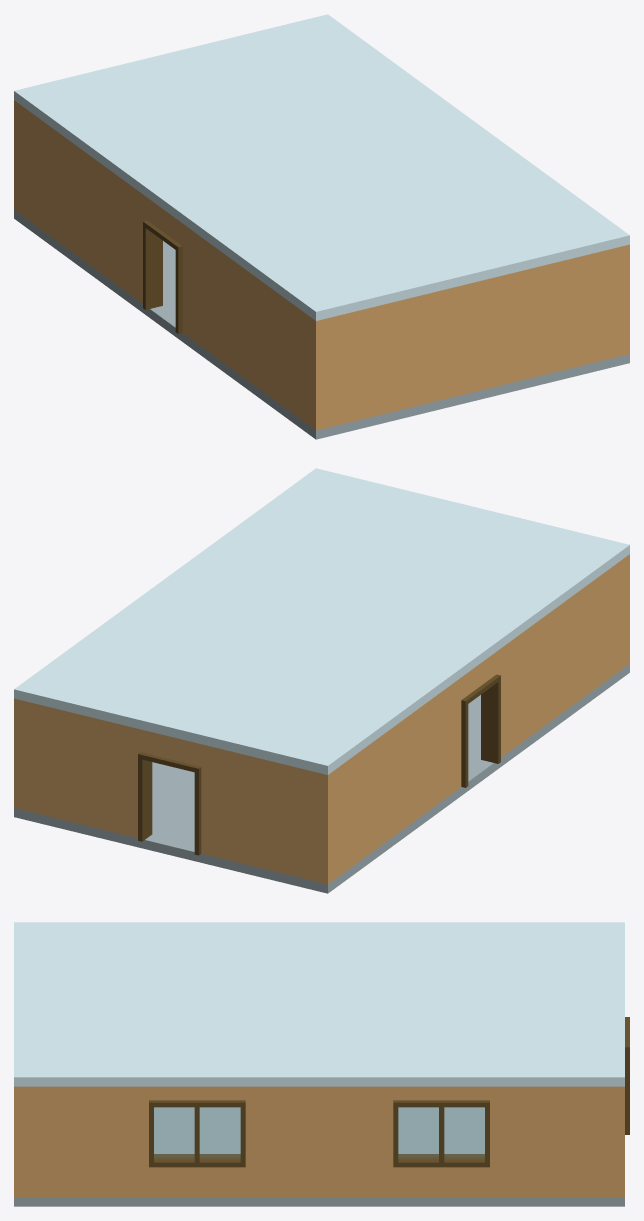
Rendered from room5x3.fbx.
3 renders of one model, top to bottom at view 1: azimuth 30°, elevation 25°; view 2: azimuth 150°, elevation 25°; view 3: azimuth 270°, elevation 25°, orthographic.
Visible parts, largest first — view 1: roof.009, wall.035, wall.031, wall.032, floor.011, wall.028, frame.010; view 2: roof.009, wall.031, wall.032, wall.034, wall.037, floor.011, wall.030, wall.028, frame.010, frame.012, wall.038; view 3: roof.009, floor.011, wall.033, wall.029, wall.038, wall.036, wall.027, glass.004, glass.005, frame.009, frame.011, wall.034 (+2 smaller).
Part boxes in pixels (x1,y1,x2,y2): roof.009: (14,14,629,320); wall.035: (311,244,629,430); wall.031: (14,100,134,297); wall.032: (195,233,315,430); floor.011: (14,210,629,439); wall.028: (134,188,195,341); frame.010: (143,220,182,333); roof.009: (14,468,629,774); wall.031: (319,687,448,884); wall.032: (509,555,628,751); wall.034: (14,700,118,833); wall.037: (223,749,332,882); floor.011: (14,664,629,893); wall.030: (118,724,223,858); wall.028: (448,642,509,795); frame.010: (461,674,500,787); frame.012: (138,752,201,855); wall.038: (14,698,22,809); roof.009: (14,922,624,1086); floor.011: (14,1107,624,1206); wall.033: (258,1086,380,1197); wall.029: (14,1086,136,1197); wall.038: (502,1086,624,1197); wall.036: (136,1086,258,1197); wall.027: (380,1086,502,1197); glass.004: (398,1107,484,1159); glass.005: (154,1107,240,1159); frame.009: (393,1100,489,1167); frame.011: (149,1100,245,1167); wall.034: (614,1086,624,1197).
Size of the model in its own units: 925 by 350 by 1513.
